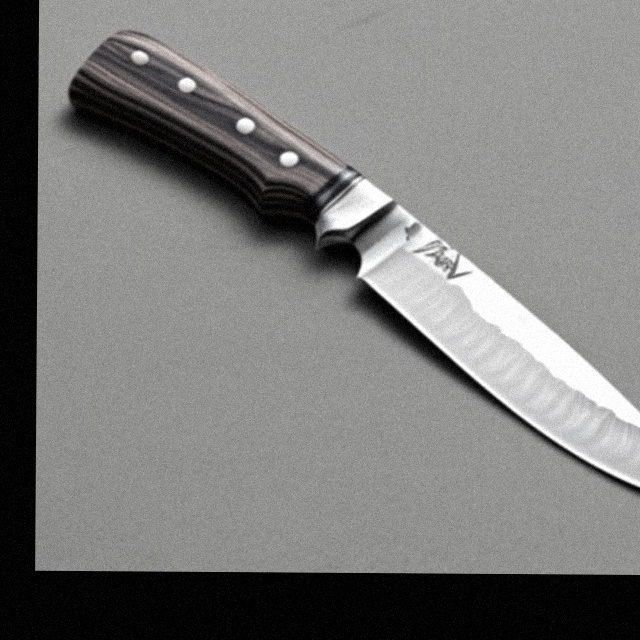Sharp-Object: (62, 25, 640, 515)
